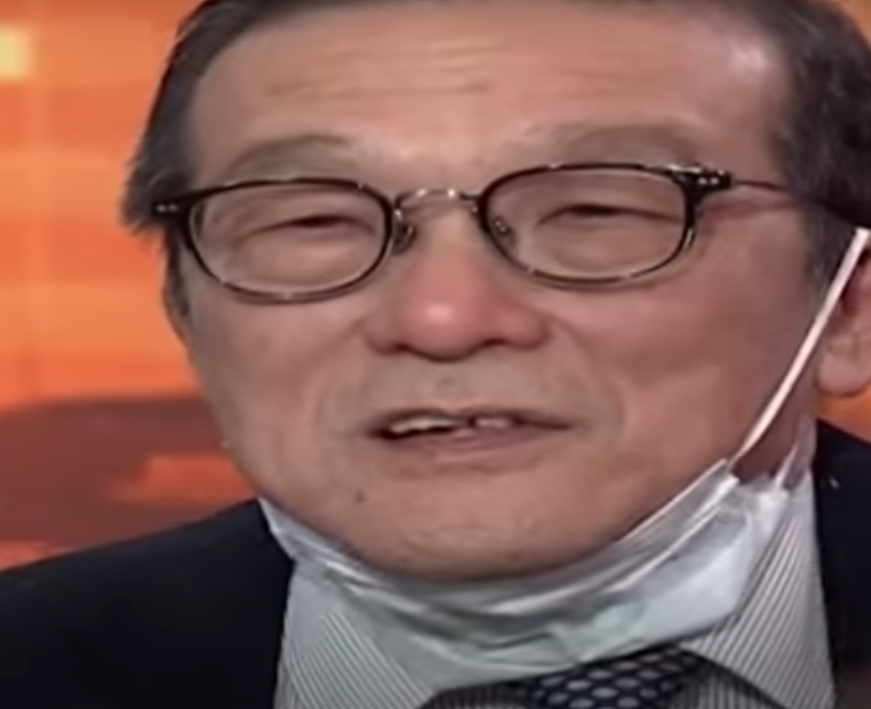mask_weared_incorrect: (126, 6, 871, 695)
